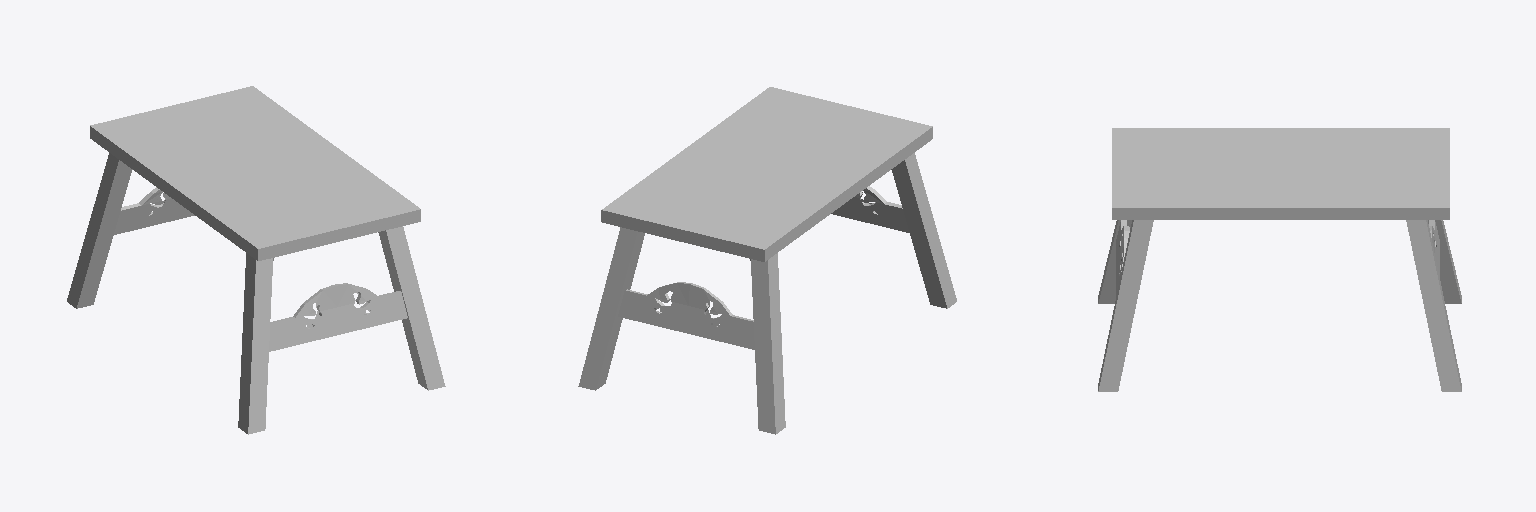
File: MesaDePrueba.obj
3 renders of one model, left to right at view 1: azimuth 30°, elevation 25°; view 2: azimuth 150°, elevation 25°; view 3: azimuth 270°, elevation 25°, orthographic.
Visible parts, largest first — view 1: mesa; view 2: mesa; view 3: mesa.
Boxes of the visible parts, box(x1,y1,x2,y2) form: mesa: box(67, 86, 445, 434); mesa: box(578, 87, 956, 434); mesa: box(1098, 128, 1461, 391).
Size of the model in its own units: 3.49 by 2.98 by 5.56.